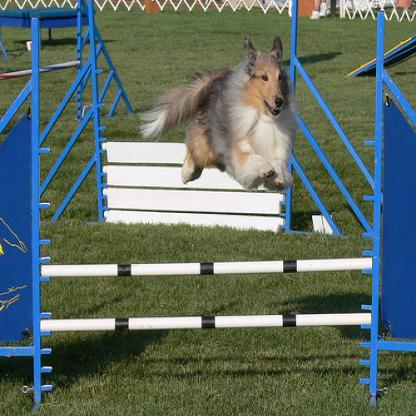Shetland_sheepdog: (139, 32, 296, 193)
